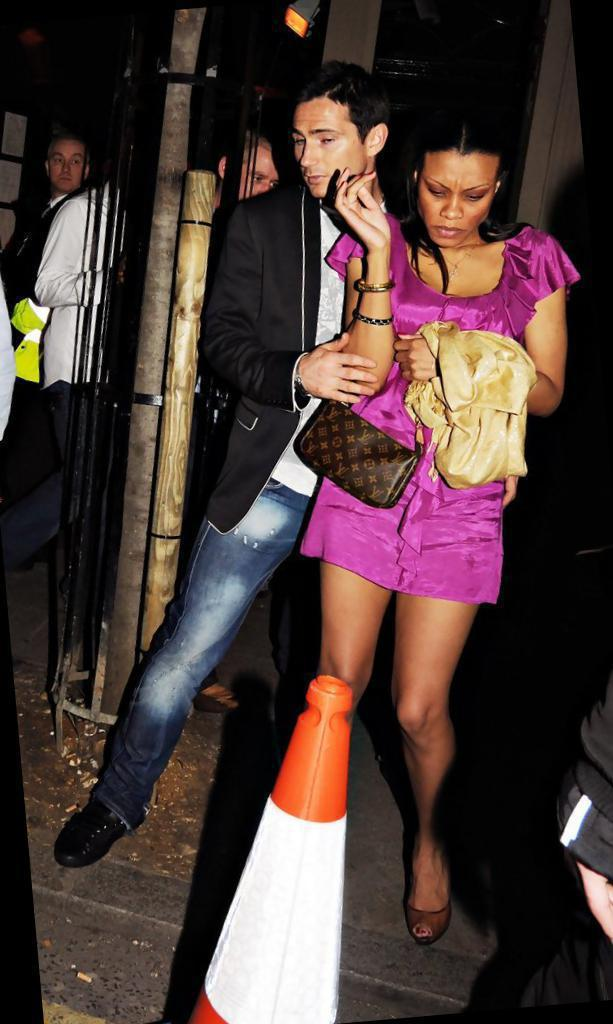Drunk: (421, 150, 492, 244), (291, 104, 361, 193)
